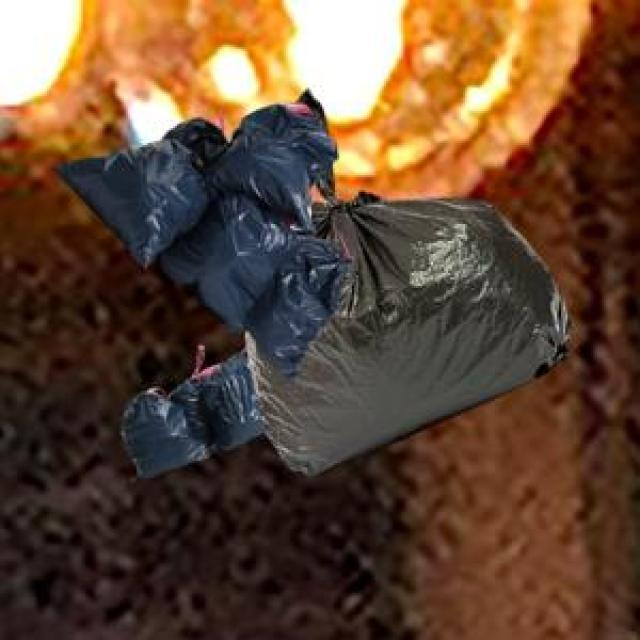Trashbag: (213, 86, 340, 226), (70, 136, 200, 252), (258, 240, 353, 382), (174, 206, 281, 315), (117, 392, 209, 479), (200, 366, 270, 451)
